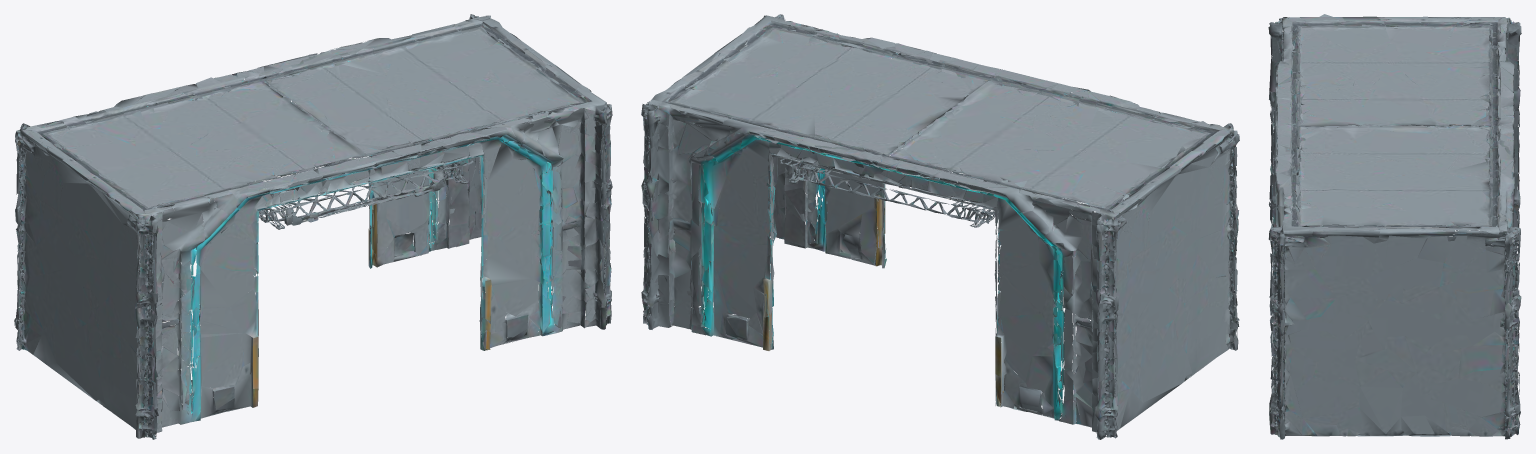
The model's file is make.glb.
3 renders of one model, left to right at view 1: azimuth 30°, elevation 25°; view 2: azimuth 150°, elevation 25°; view 3: azimuth 270°, elevation 25°, orthographic. The views are drawn at different scales.
Parts seen in each view (by area): view 1: Mesh_0; view 2: Mesh_0; view 3: Mesh_0.
Boxes of the visible parts, bbox=[...] form: Mesh_0: bbox=[14, 14, 612, 439]; Mesh_0: bbox=[641, 14, 1239, 439]; Mesh_0: bbox=[1268, 14, 1521, 439].
Bounding box in the file's own units: 1.91 × 0.8512 × 0.9325.
1 material, 1 textured.
